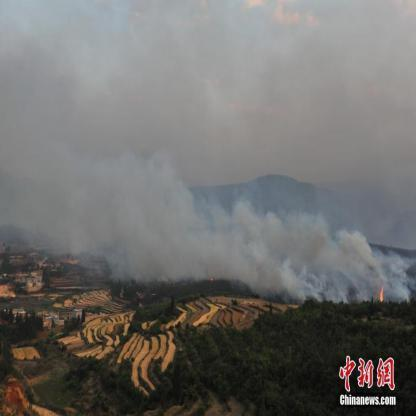fire: (374, 286, 385, 304)
smoke: (2, 0, 416, 250), (116, 243, 416, 280)
